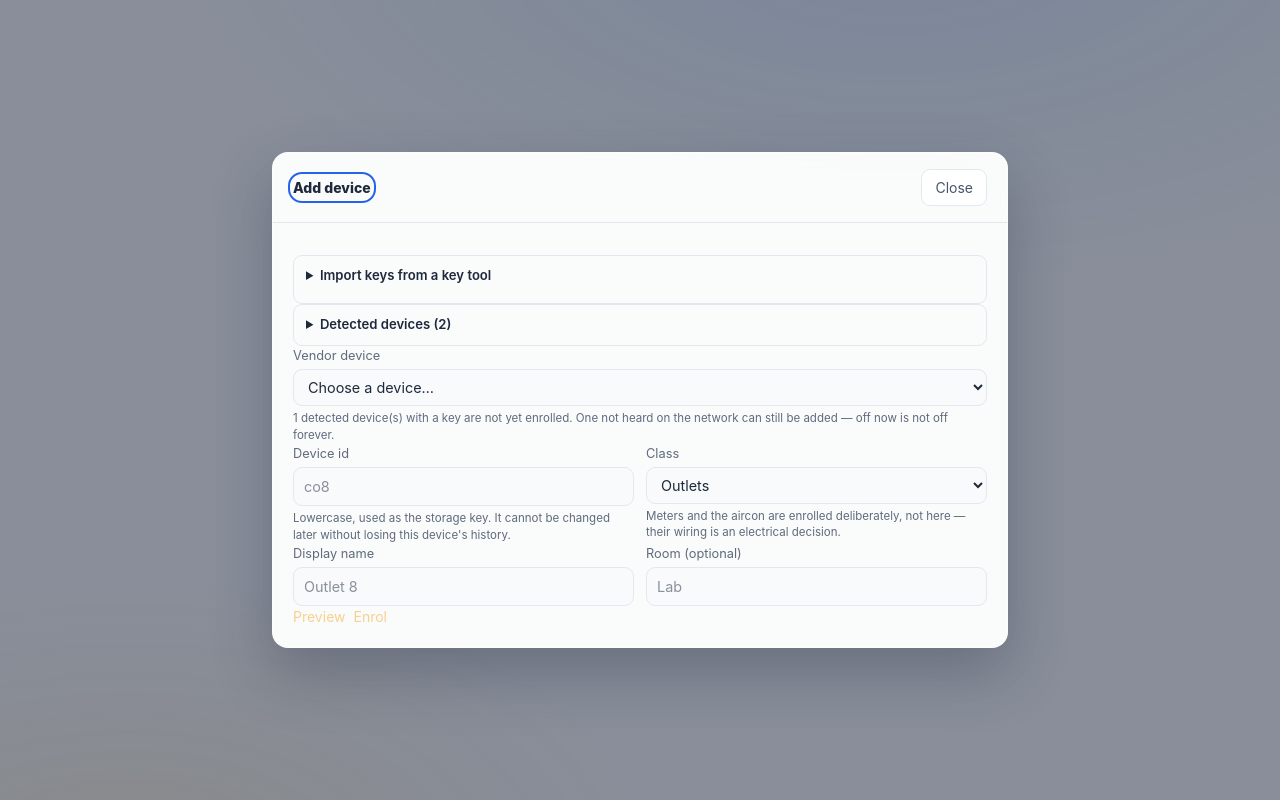
it: EnrollWizard › shows the same validation the server will apply, as you type
Type "CO8" into the field with placeholder "co8" at (464, 486), box left=293, top=467, right=634, bottom=506
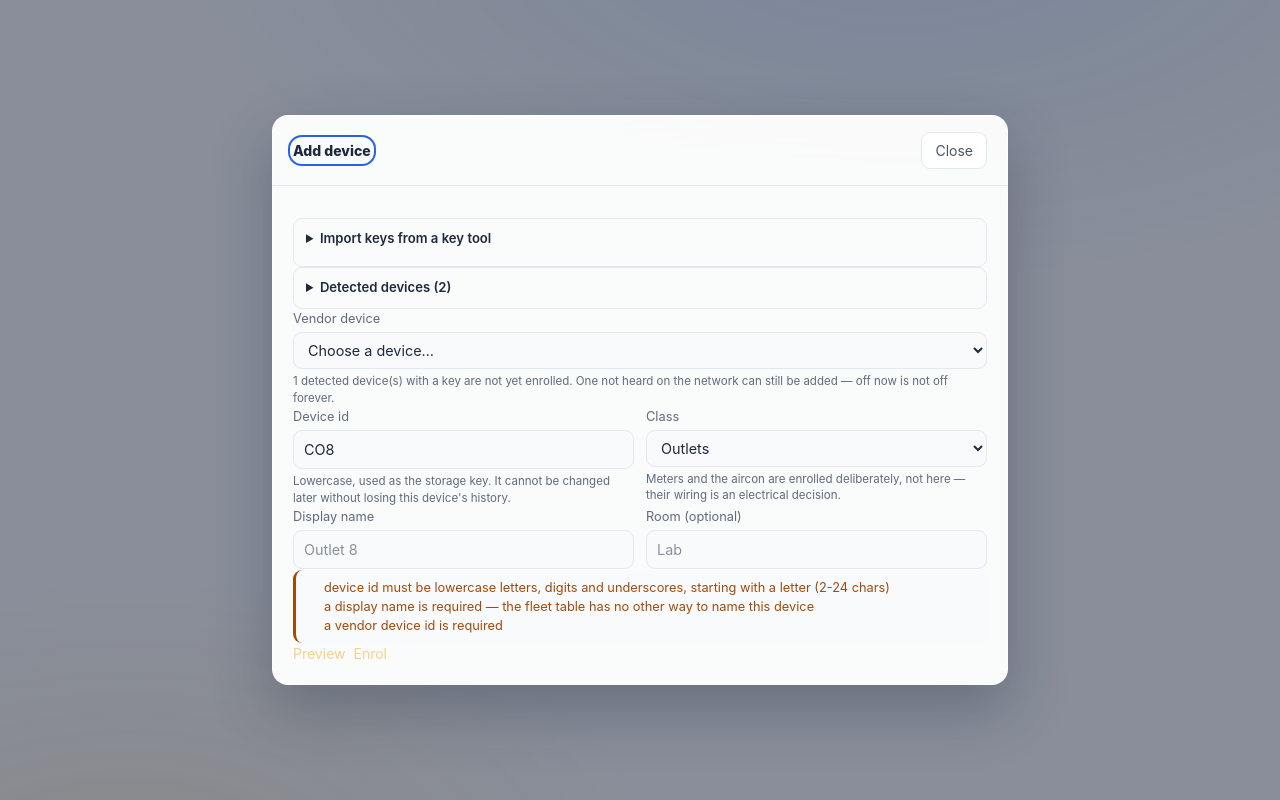
Expected: the list item "must be lowercase letters" is shown, left=324, top=580, right=890, bottom=595
